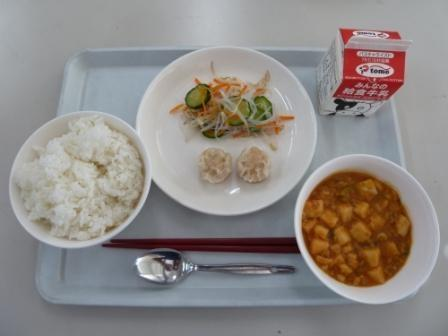Milk: (317, 23, 418, 124)
Rice: (7, 113, 150, 240)
Spicy chili-flavored tofu: (292, 155, 445, 297)
cutlet: (197, 142, 271, 188)
salad with sauce: (173, 65, 292, 137)
